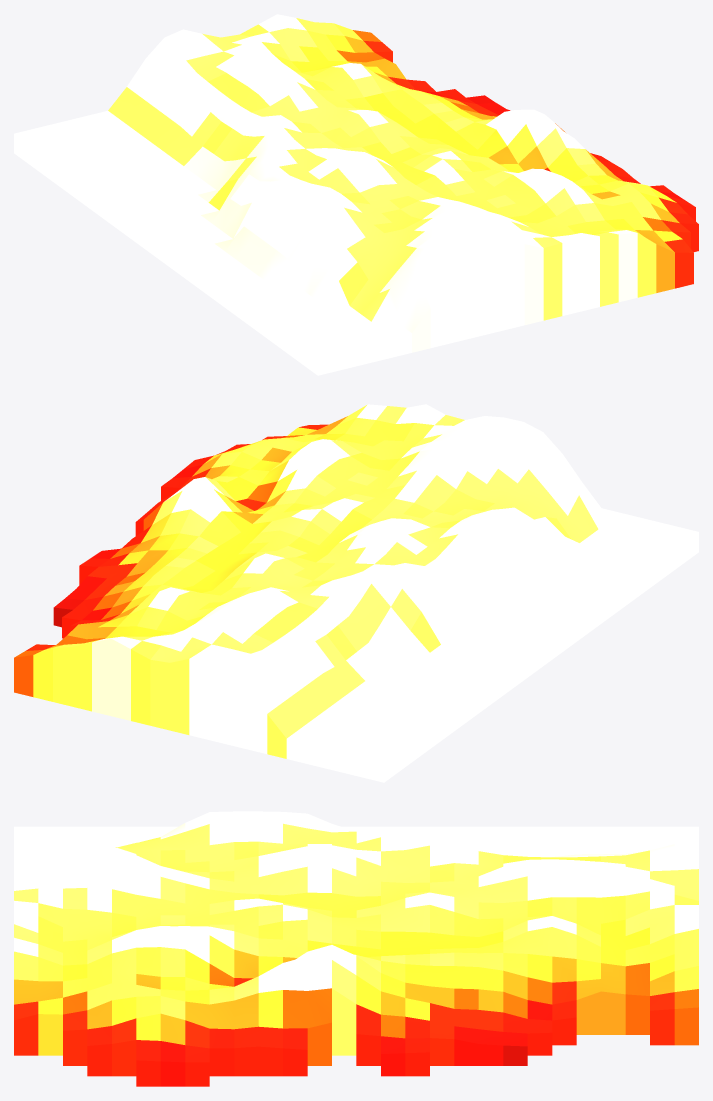
Rendered from newshk-55.glb.
3 views of the same model, one above another, from view 1: azimuth 30°, elevation 25°; view 2: azimuth 150°, elevation 25°; view 3: azimuth 270°, elevation 25° (orthographic). The views are drawn at different scales.
Visible parts, largest first — view 1: newshk-55; view 2: newshk-55; view 3: newshk-55.
Part boxes in pixels (<box>): newshk-55: <box>14,14,698,375</box>; newshk-55: <box>14,404,698,782</box>; newshk-55: <box>14,811,698,1086</box>.
Bounding box in the file's own units: 1.92 × 0.3583 × 2.33.
